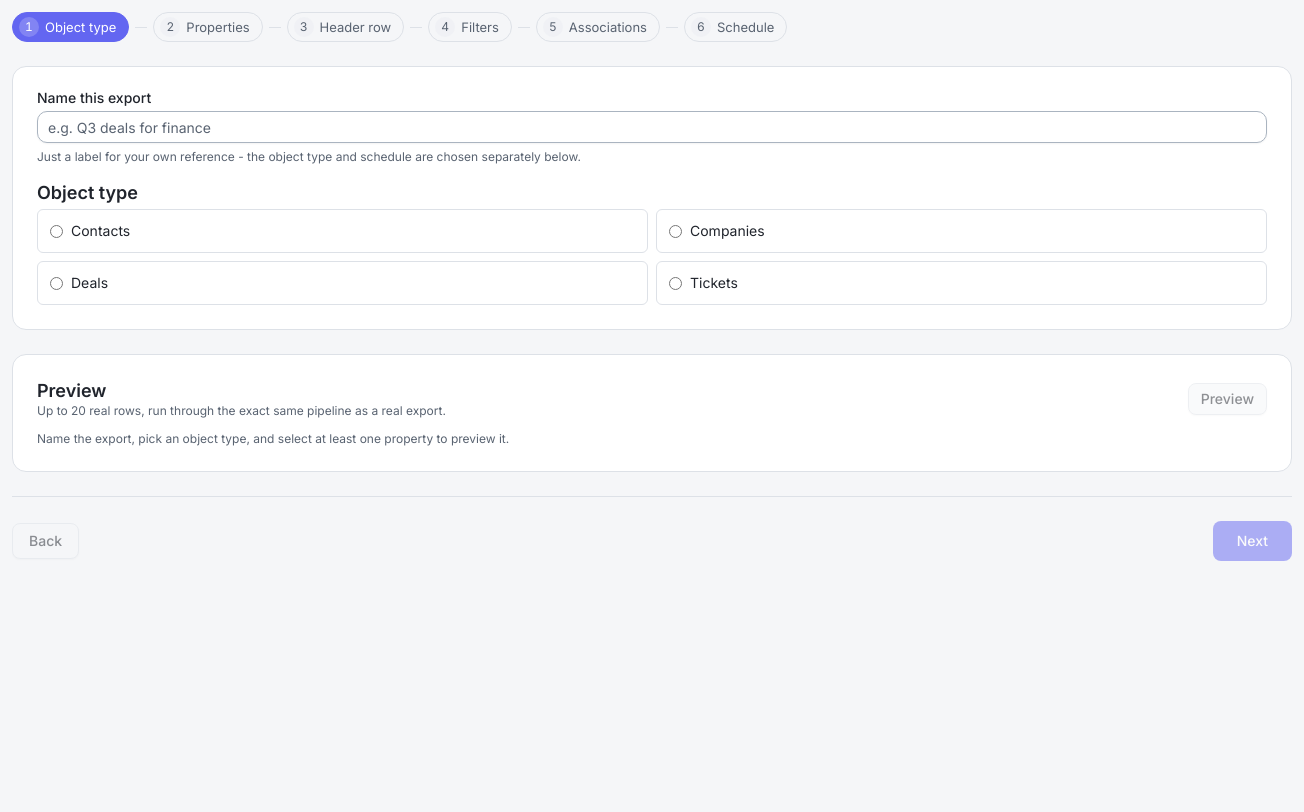
it: ExportBuilder › renders a name input on step 1 and enables Next once name, object type, and a property are set
Expected: the button "Next" is disabled, left=1213, top=521, right=1292, bottom=561
Type "Q3 deals for finance" into the field labelled "Name this export" at (652, 127), box left=37, top=111, right=1267, bottom=143
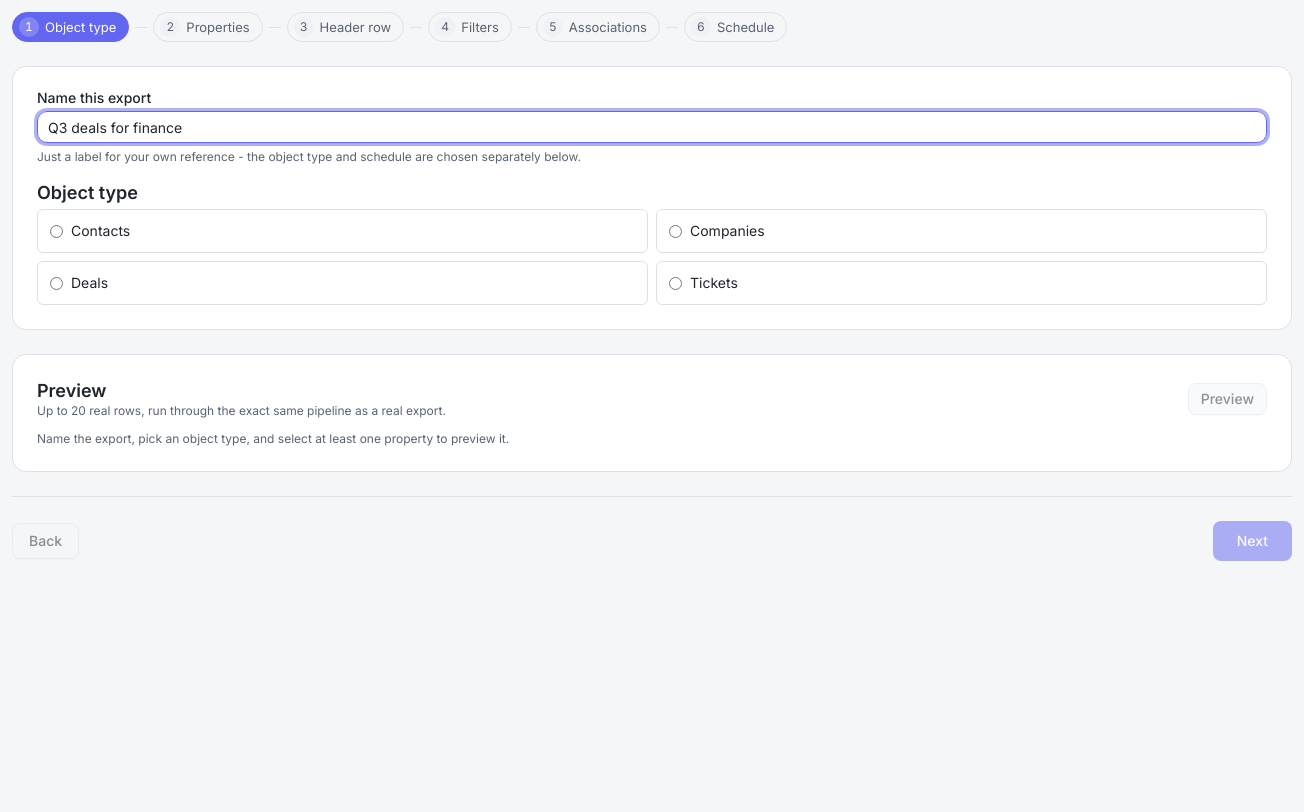
Expected: the button "Next" is disabled, left=1213, top=521, right=1292, bottom=561
Click the radio button labelled "Contacts" at (56, 231), box left=50, top=224, right=63, bottom=238
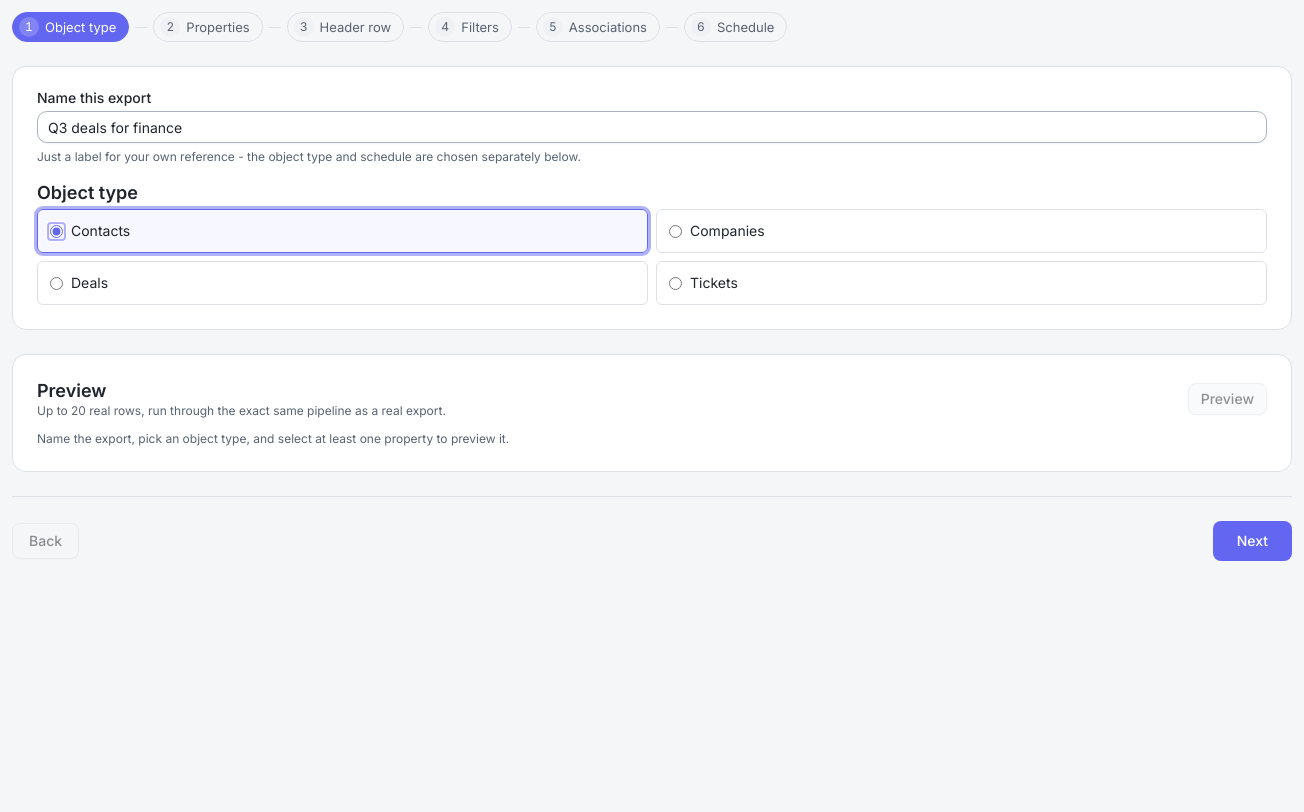
Expected: the button "Next" is enabled
Click the button "Next" at (1252, 541), box left=1213, top=521, right=1292, bottom=561
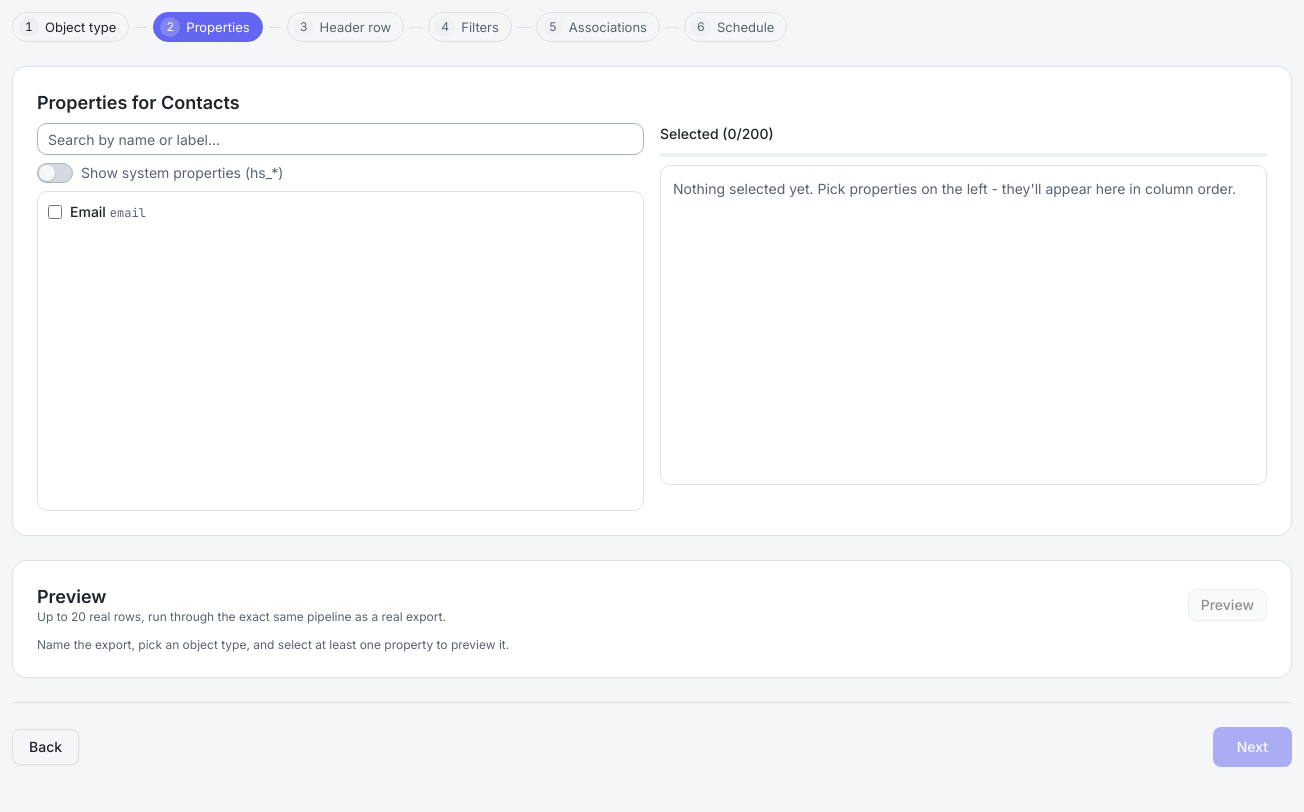
Expected: the option "Email email" is shown
Click the option "Email email" at (88, 212), box left=38, top=193, right=643, bottom=231
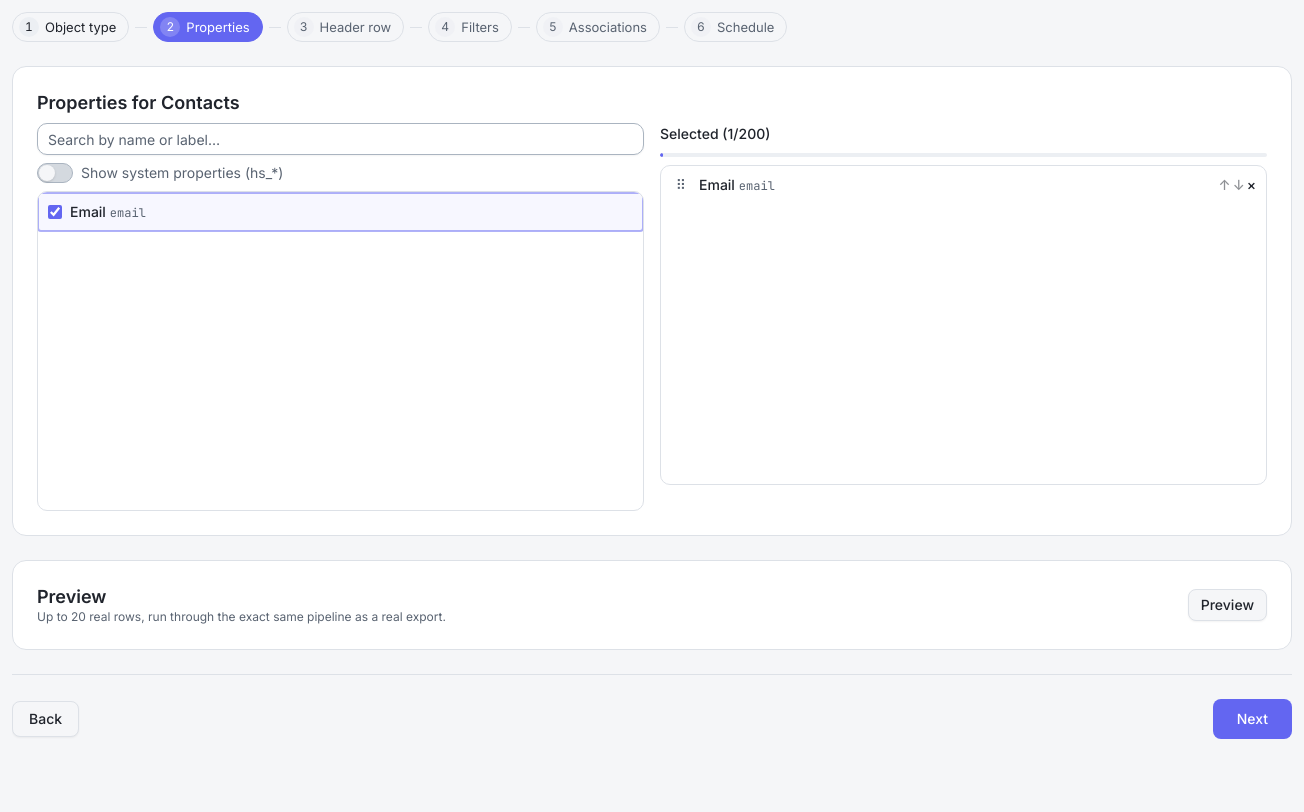
Expected: the button "Next" is enabled, left=1213, top=699, right=1292, bottom=739
